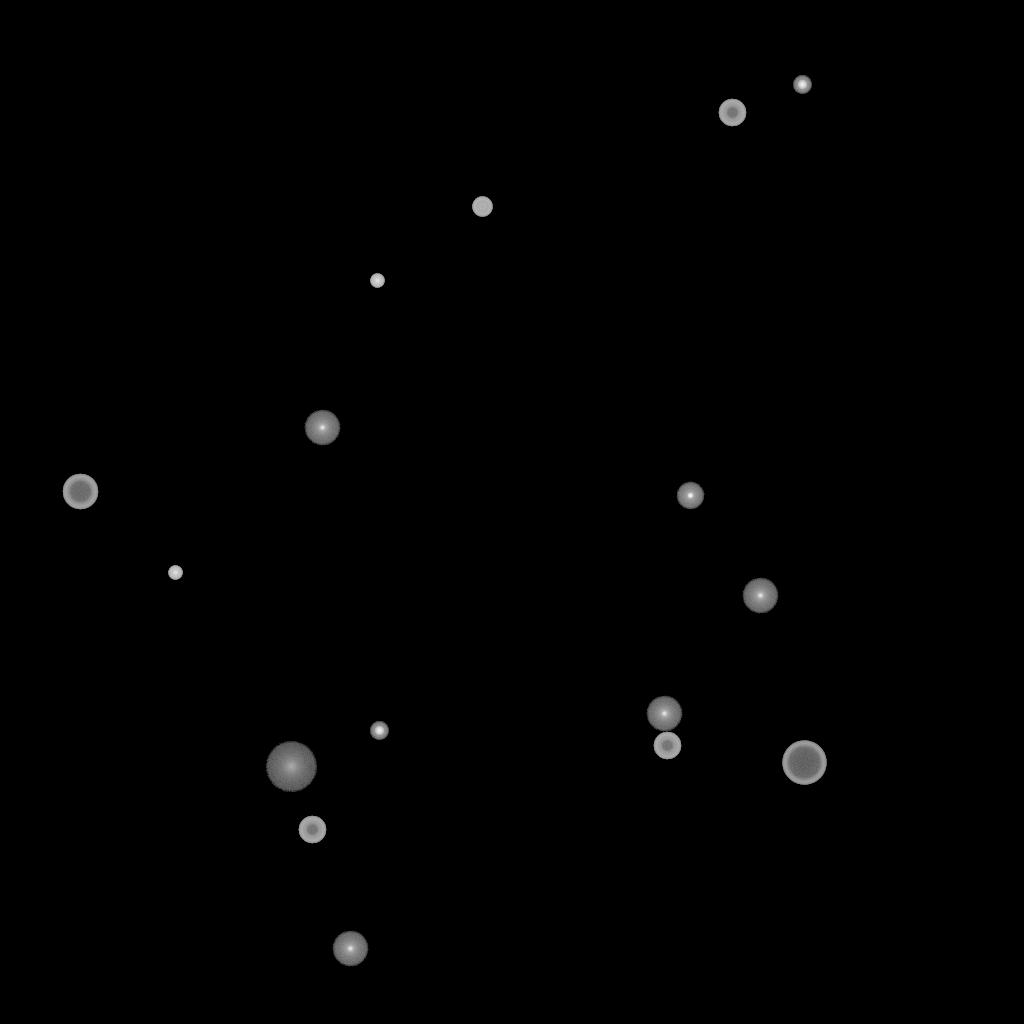depth:-10: (676, 482, 704, 510)
depth:-20: (370, 722, 388, 740), (793, 76, 811, 94)
depth:-30: (370, 274, 384, 288), (168, 566, 182, 580)
depth:-40: (472, 197, 492, 217)
depth:-50: (653, 732, 681, 760), (718, 99, 746, 127), (298, 816, 326, 844)
depth:-60: (62, 474, 98, 510)
depth:-70: (782, 741, 826, 785)
depth:0: (742, 578, 778, 614), (646, 696, 682, 732), (304, 410, 340, 446), (332, 931, 368, 967)
depth:20: (265, 742, 317, 792)
